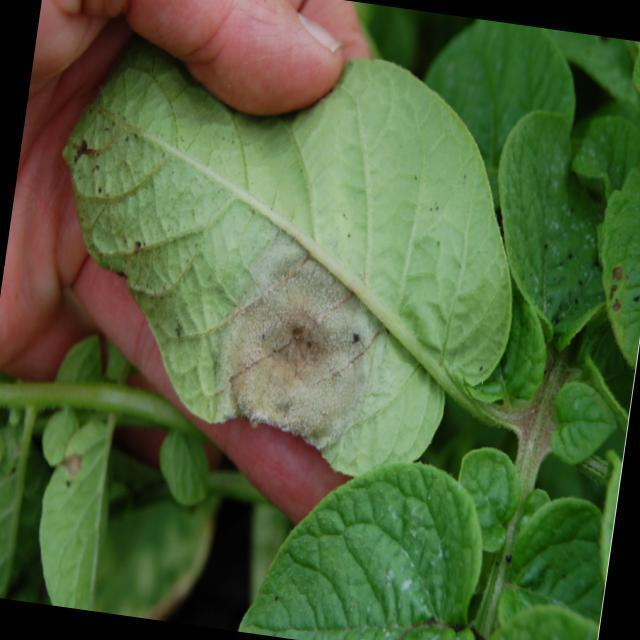Healthy Leaf: (448, 438, 526, 553), (548, 370, 626, 482)
